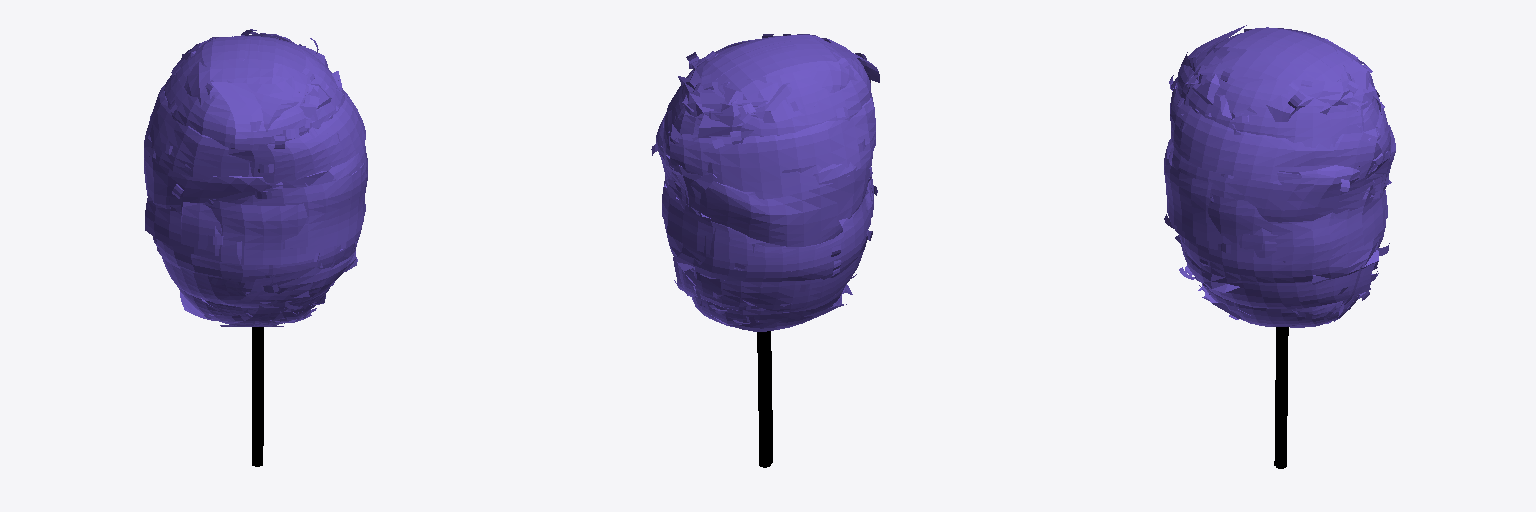
The model's file is tree1.obj.
3 renders of one model, left to right at view 1: azimuth 30°, elevation 25°; view 2: azimuth 150°, elevation 25°; view 3: azimuth 270°, elevation 25°, orthographic.
Parts seen in each view (by area): view 1: group3 pasted__pasted__Green4 pasted__pasted__Cotton_candy paste; view 2: group3 pasted__pasted__Green4 pasted__pasted__Cotton_candy paste, pasted__pasted__pCylinder5 pasted__group1 group3; view 3: group3 pasted__pasted__Green4 pasted__pasted__Cotton_candy paste, pasted__pasted__pCylinder5 pasted__group1 group3.
Part boxes in pixels (left/top/right/bottom): group3 pasted__pasted__Green4 pasted__pasted__Cotton_candy paste: left=144, top=29, right=367, bottom=465; group3 pasted__pasted__Green4 pasted__pasted__Cotton_candy paste: left=651, top=34, right=879, bottom=463; pasted__pasted__pCylinder5 pasted__group1 group3: left=757, top=331, right=770, bottom=467; group3 pasted__pasted__Green4 pasted__pasted__Cotton_candy paste: left=1164, top=25, right=1395, bottom=465; pasted__pasted__pCylinder5 pasted__group1 group3: left=1276, top=327, right=1288, bottom=468.
Bounding box in the file's own units: 4.67 × 9.81 × 4.94.